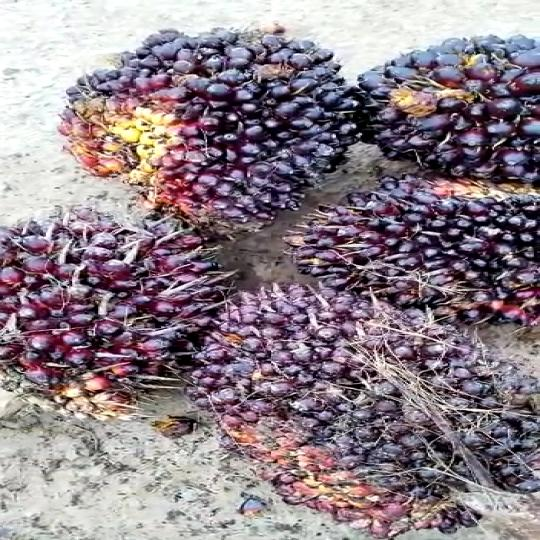kurang masak: (195, 290, 540, 540), (50, 18, 340, 219), (0, 204, 221, 429), (297, 167, 540, 331), (351, 16, 540, 168)
